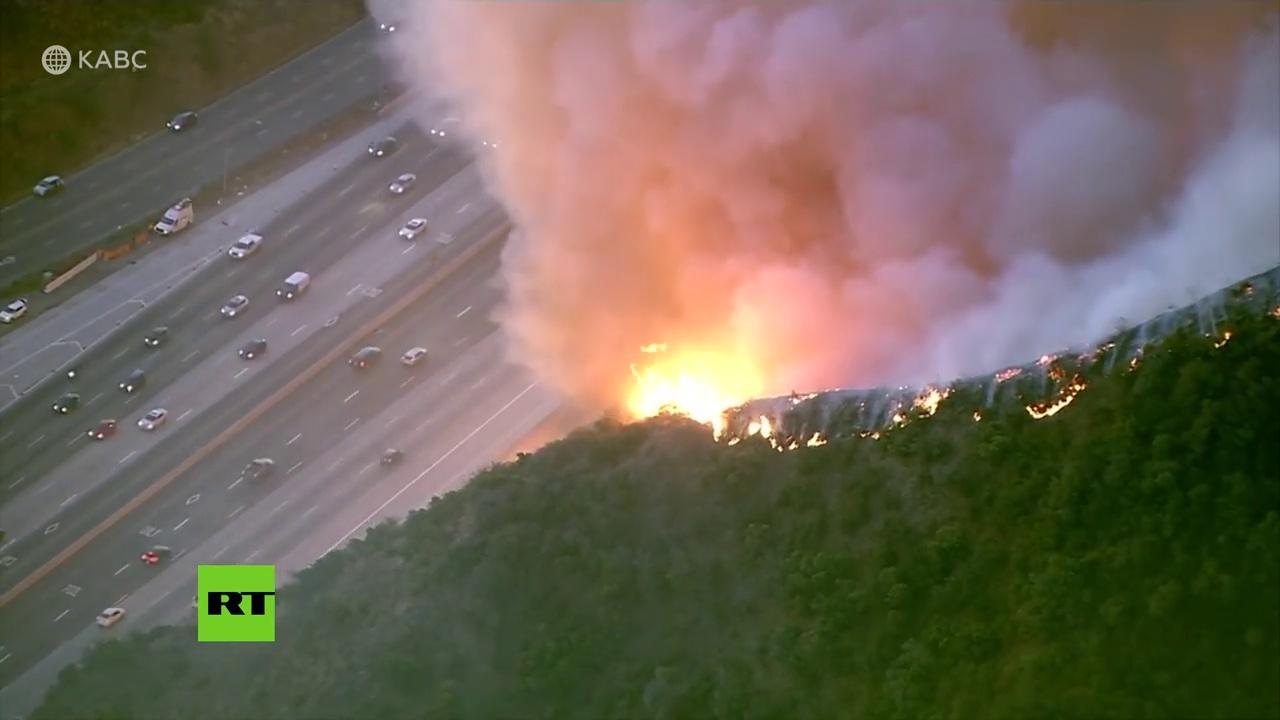Fire: (636, 342, 730, 442), (1021, 394, 1079, 421), (743, 416, 785, 449), (915, 386, 942, 418), (787, 432, 827, 449)
